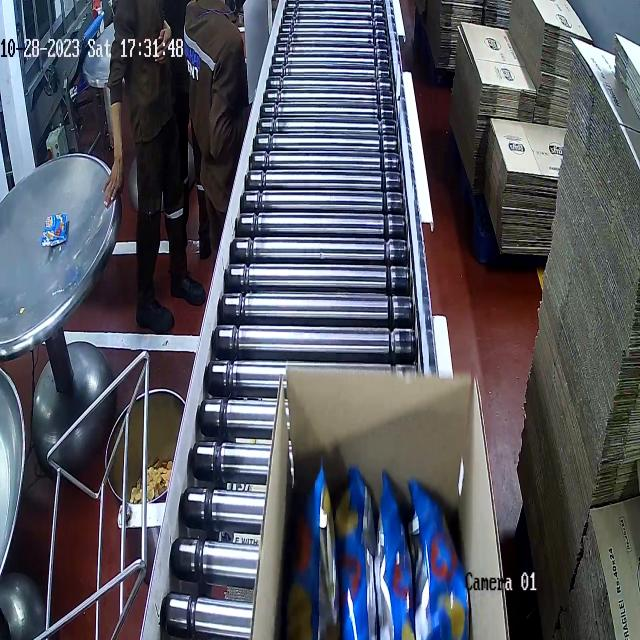PAPRIKA: (294, 465, 472, 640)
